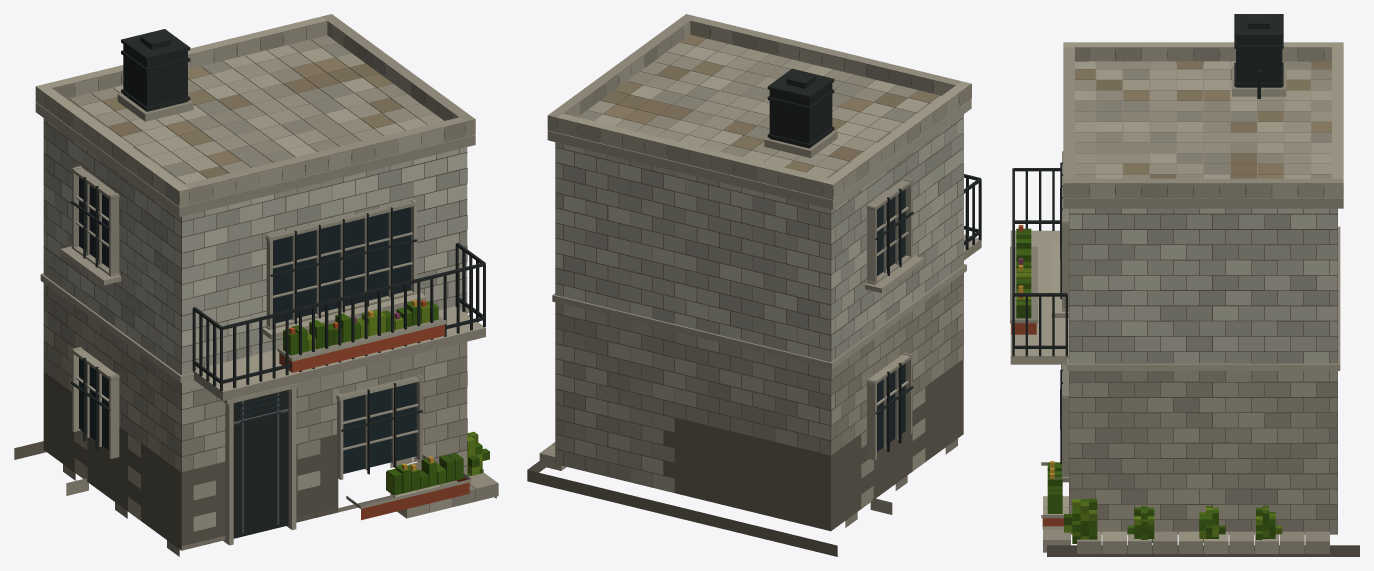
The model's file is SM_StreetFrontage_108.fbx.
3 renders of one model, left to right at view 1: azimuth 30°, elevation 25°; view 2: azimuth 150°, elevation 25°; view 3: azimuth 270°, elevation 25°, orthographic. The views are drawn at different scales.
Visible parts, largest first — view 1: SM_StreetFrontage_108; view 2: SM_StreetFrontage_108; view 3: SM_StreetFrontage_108.
Boxes of the visible parts, x1=… form: SM_StreetFrontage_108: x1=14, y1=14, x2=498, y2=556; SM_StreetFrontage_108: x1=527, y1=14, x2=981, y2=556; SM_StreetFrontage_108: x1=1010, y1=14, x2=1359, y2=556.
Size of the model in its own units: 8 by 7.51 by 10.12.
